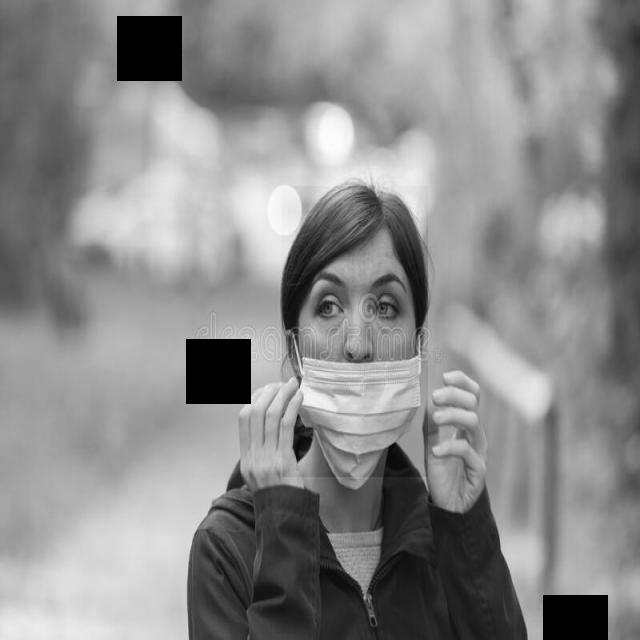hairnet: (282, 311, 429, 477)
